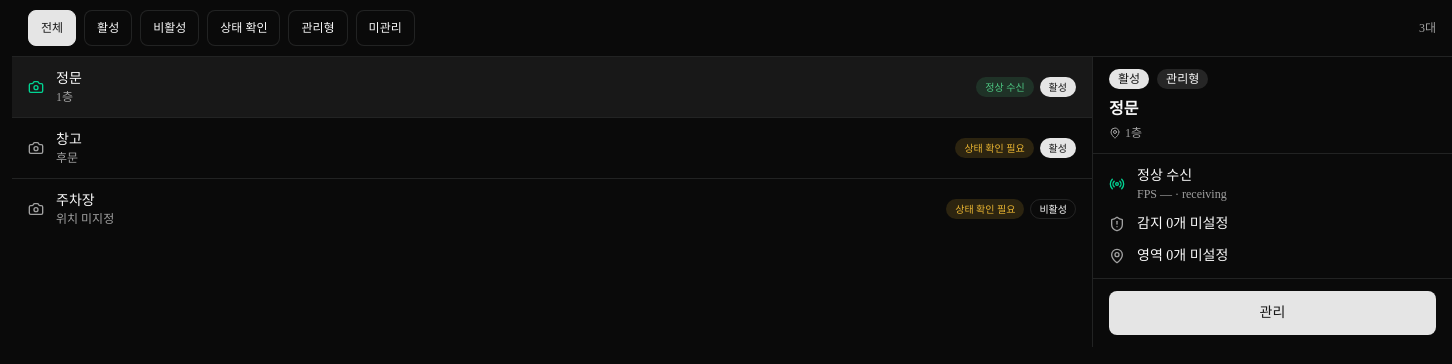
Test: CameraManagementOverview › filters cameras by health and management state
Click the button "비활성". click: (170, 28)
box: [140,10,199,46]
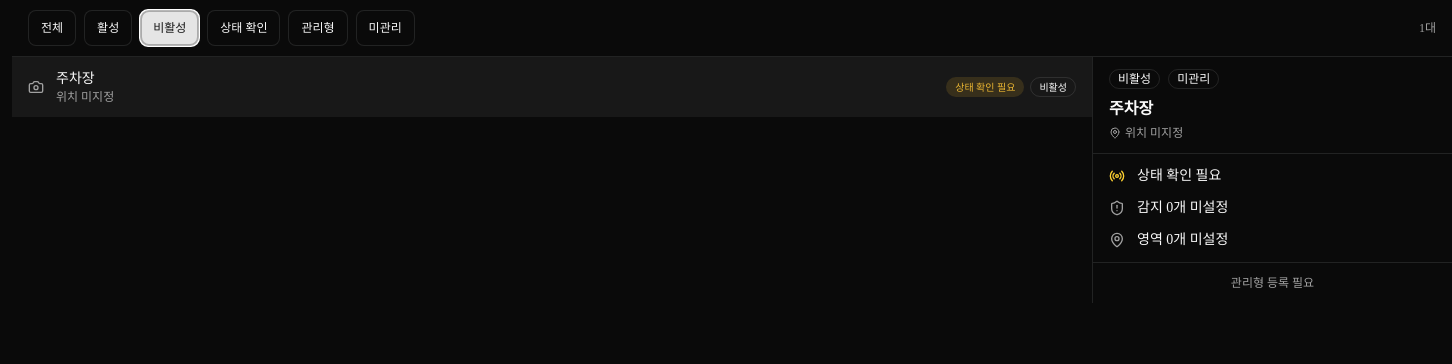
Result: no options "정문" are shown
Result: no options "창고" are shown
